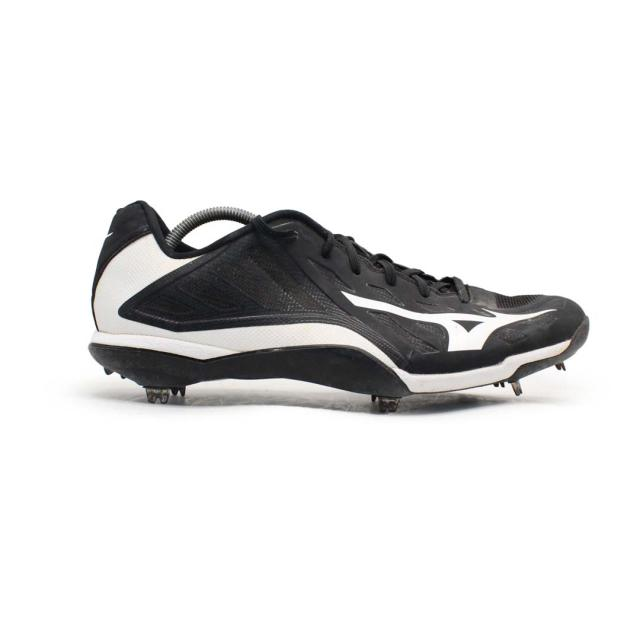heel: (93, 201, 188, 326)
midsole: (84, 315, 592, 415)
uppersole: (179, 212, 583, 359)
